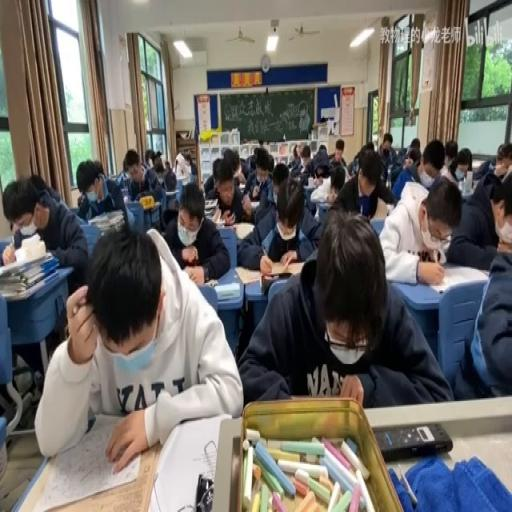calculator: (151, 412, 231, 512), (418, 262, 490, 294), (235, 259, 302, 283), (214, 280, 240, 300), (310, 180, 330, 204), (314, 198, 333, 219), (232, 222, 254, 240), (203, 198, 218, 219), (217, 218, 234, 228), (163, 186, 177, 196), (178, 174, 190, 184), (306, 176, 315, 188), (478, 267, 490, 276), (250, 199, 260, 208), (237, 181, 245, 189)
paper: (38, 222, 242, 468), (238, 208, 446, 410), (451, 172, 512, 398), (2, 173, 86, 296), (164, 180, 230, 284), (331, 145, 394, 219), (78, 158, 133, 232), (244, 145, 274, 208), (122, 148, 154, 202), (204, 150, 238, 200), (390, 144, 422, 196), (416, 138, 446, 192), (474, 142, 511, 184), (148, 152, 178, 198), (490, 179, 512, 236), (304, 144, 334, 182), (31, 174, 59, 204), (270, 162, 288, 192), (329, 137, 347, 165), (286, 144, 302, 174), (378, 132, 394, 162), (444, 138, 458, 165), (330, 170, 345, 194), (348, 154, 361, 176), (118, 170, 132, 190), (457, 158, 470, 178), (175, 155, 188, 174), (186, 154, 197, 176), (408, 138, 419, 158), (94, 159, 104, 178), (230, 158, 239, 178), (144, 148, 154, 165), (299, 145, 309, 161), (363, 141, 374, 155), (154, 150, 162, 164), (249, 154, 256, 170), (315, 169, 325, 179), (239, 156, 246, 168), (164, 158, 170, 169), (318, 145, 326, 152), (258, 138, 264, 146)
person: (373, 420, 453, 458), (194, 471, 214, 509)
